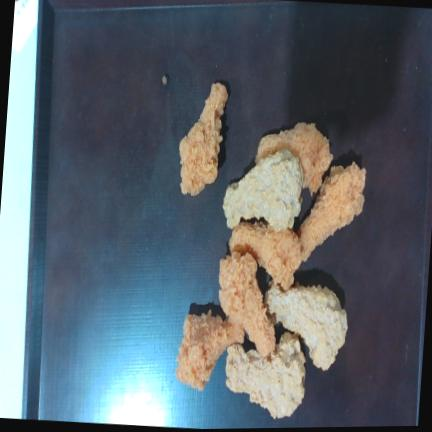chicken: (265, 282, 347, 370), (225, 332, 304, 417), (298, 162, 365, 260), (222, 150, 302, 231), (218, 252, 275, 355), (255, 122, 332, 195), (175, 309, 244, 390), (179, 82, 227, 194), (229, 221, 301, 289)
